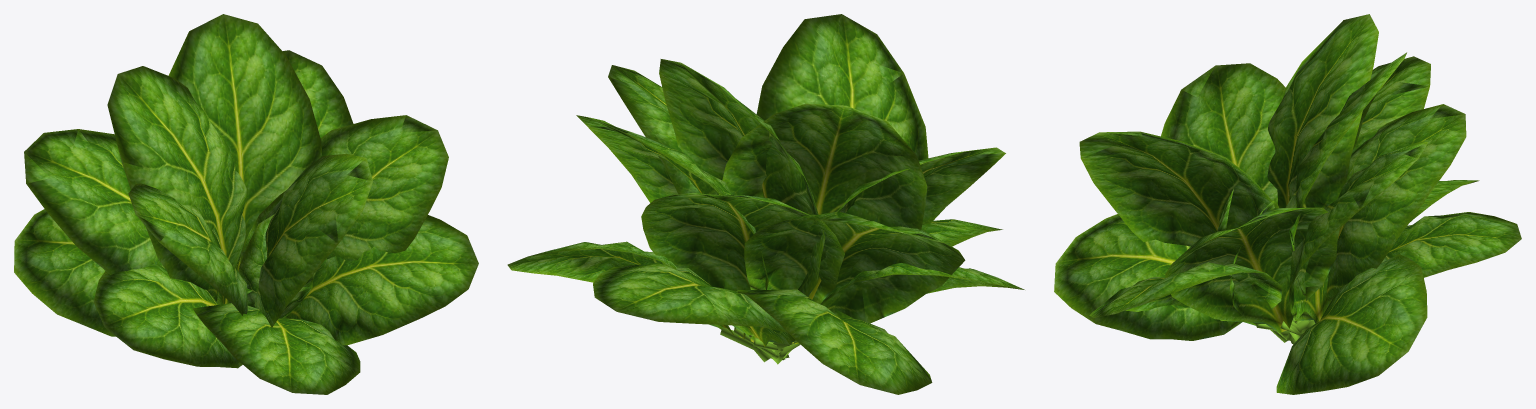
Rendered from NP_Spinach_Ready_LOD1.fbx.
3 renders of one model, left to right at view 1: azimuth 30°, elevation 25°; view 2: azimuth 150°, elevation 25°; view 3: azimuth 270°, elevation 25°, orthographic. The views are drawn at different scales.
Visible parts, largest first — view 1: NP_Spinach_Ready; view 2: NP_Spinach_Ready; view 3: NP_Spinach_Ready.
Part boxes in pixels (x1,y1,x2,y2): NP_Spinach_Ready: (14, 14, 478, 394); NP_Spinach_Ready: (507, 14, 1024, 394); NP_Spinach_Ready: (1054, 14, 1521, 394).
Size of the model in its own units: 67.63 by 49.65 by 70.17.
